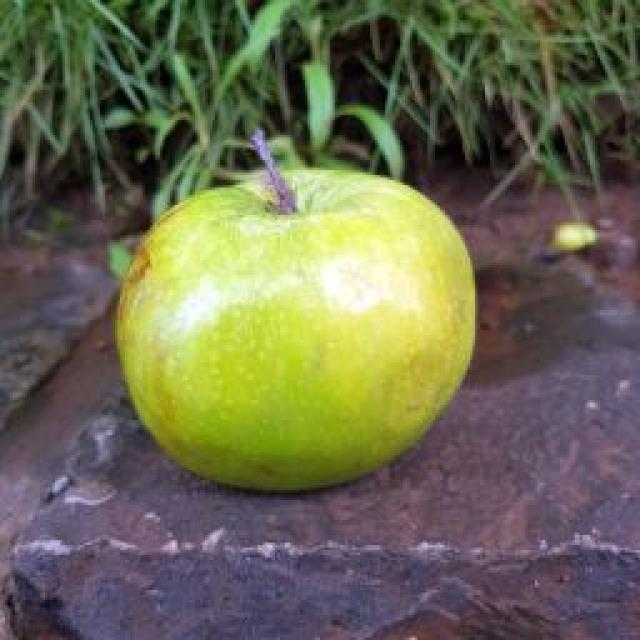Good_Apple: (119, 171, 475, 491)
